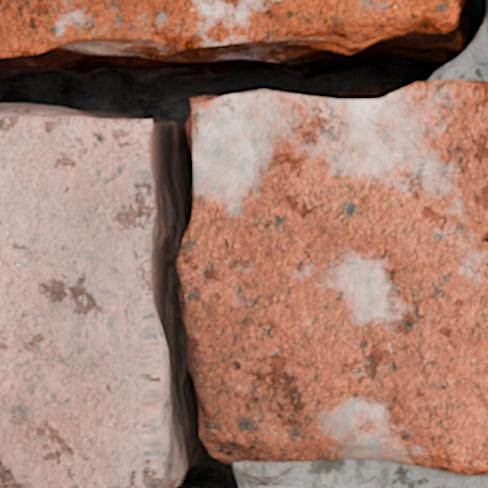brick: (178, 80, 487, 474), (0, 110, 174, 487), (0, 0, 458, 56)
crack: (0, 0, 487, 487), (482, 229, 487, 243)
